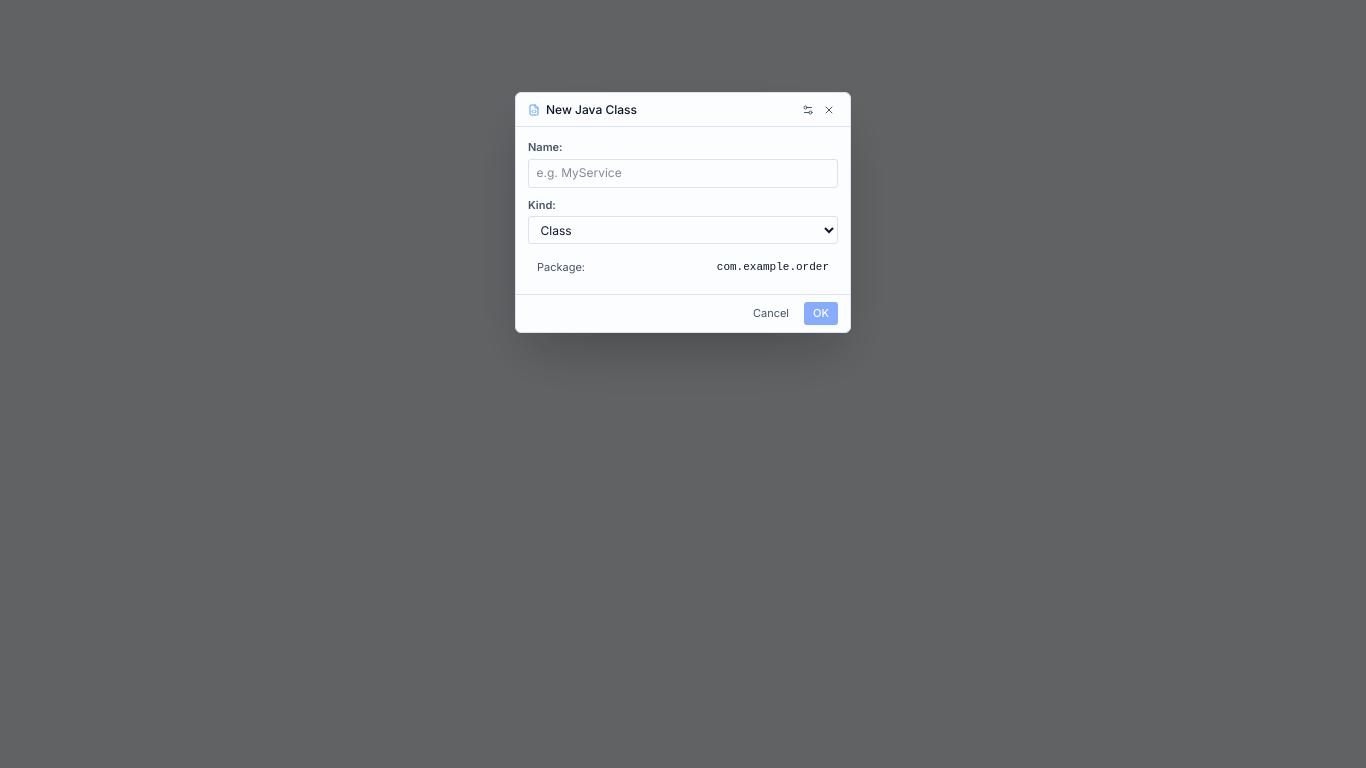
Test: ED-TEMPLATE-001: NewJavaClassDialog › shows error and disables submit on file conflict (ED-TEMPLATE-001-A2)
The image size is (1366, 768).
In the field with test id "new-java-class-name-input": (683, 173) 528,159 -> 838,188, type "Existing"
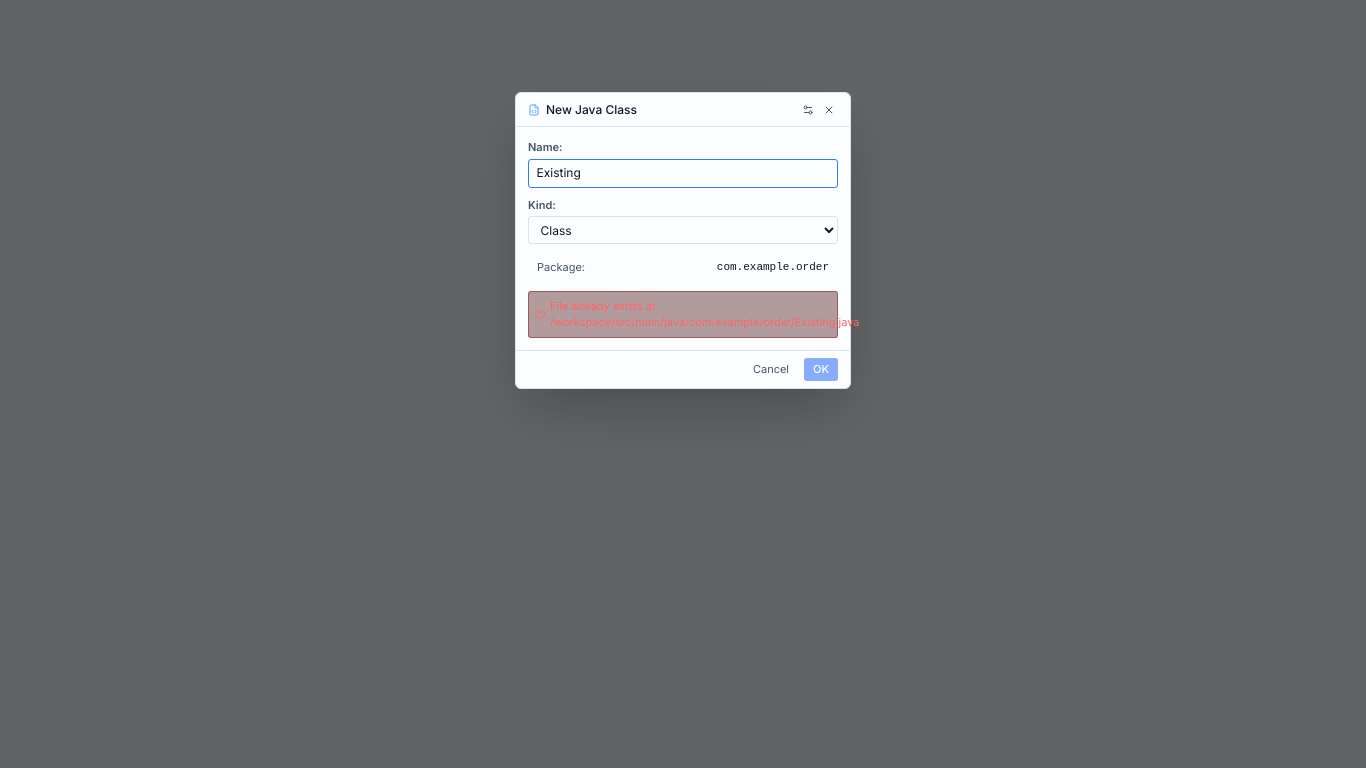
Expected: the button with test id "new-java-class-submit" is disabled, 804,358 -> 838,381
Expected: the element with test id "new-java-class-error" shows "File already exists", 550,299 -> 860,329
